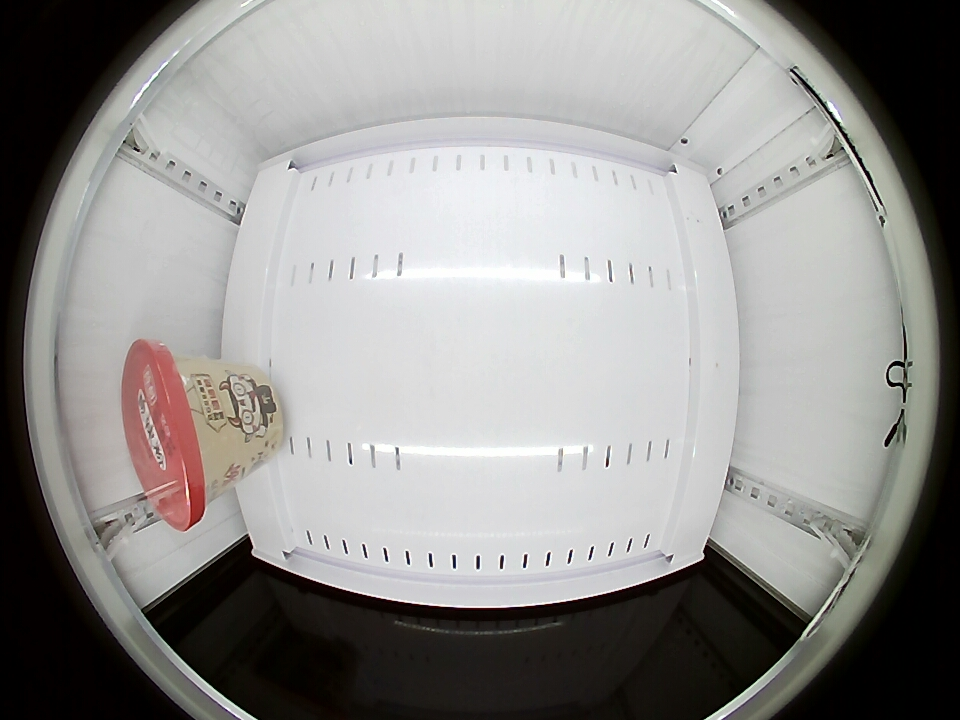suanlafen: (122, 343, 227, 530)
